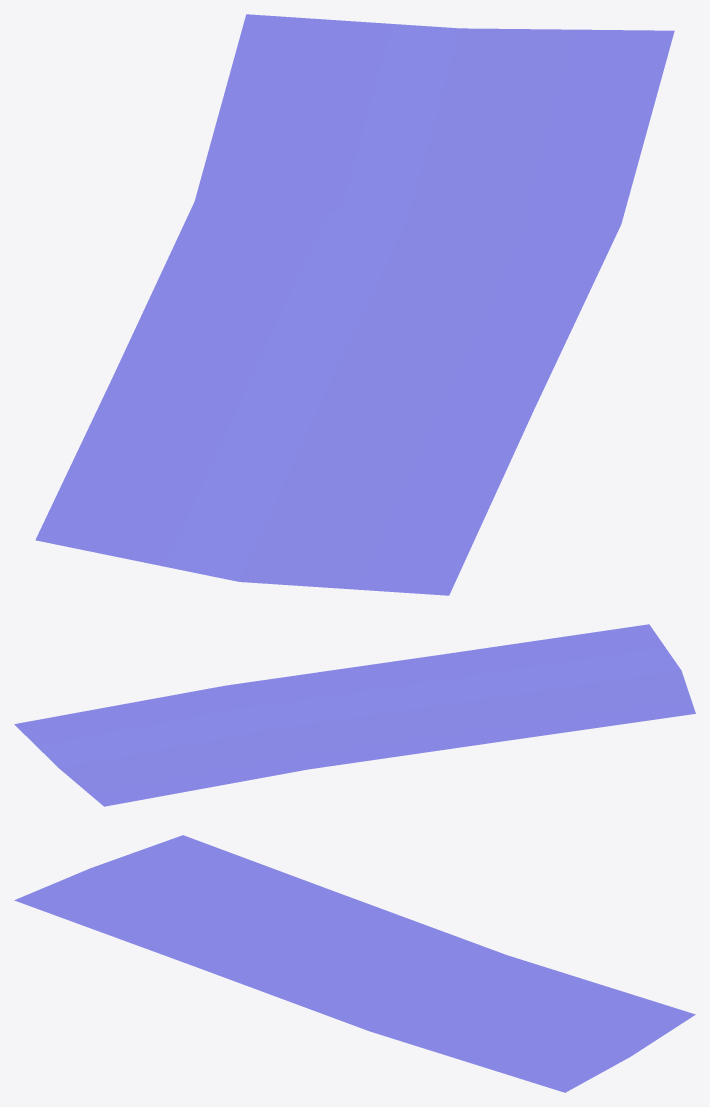
The model's file is track_la_coll_road_01.fbx.
3 views of the same model, one above another, from view 1: azimuth 30°, elevation 25°; view 2: azimuth 150°, elevation 25°; view 3: azimuth 270°, elevation 25° (orthographic). The views are drawn at different scales.
Parts seen in each view (by area): view 1: track_la_coll_road_01; view 2: track_la_coll_road_01; view 3: track_la_coll_road_01.
Part boxes in pixels (bbox=[...]): track_la_coll_road_01: bbox=[35, 14, 674, 595]; track_la_coll_road_01: bbox=[14, 624, 695, 806]; track_la_coll_road_01: bbox=[14, 835, 695, 1092].
Bounding box in the file's own units: 71.58 × 0.4061 × 80.02.
